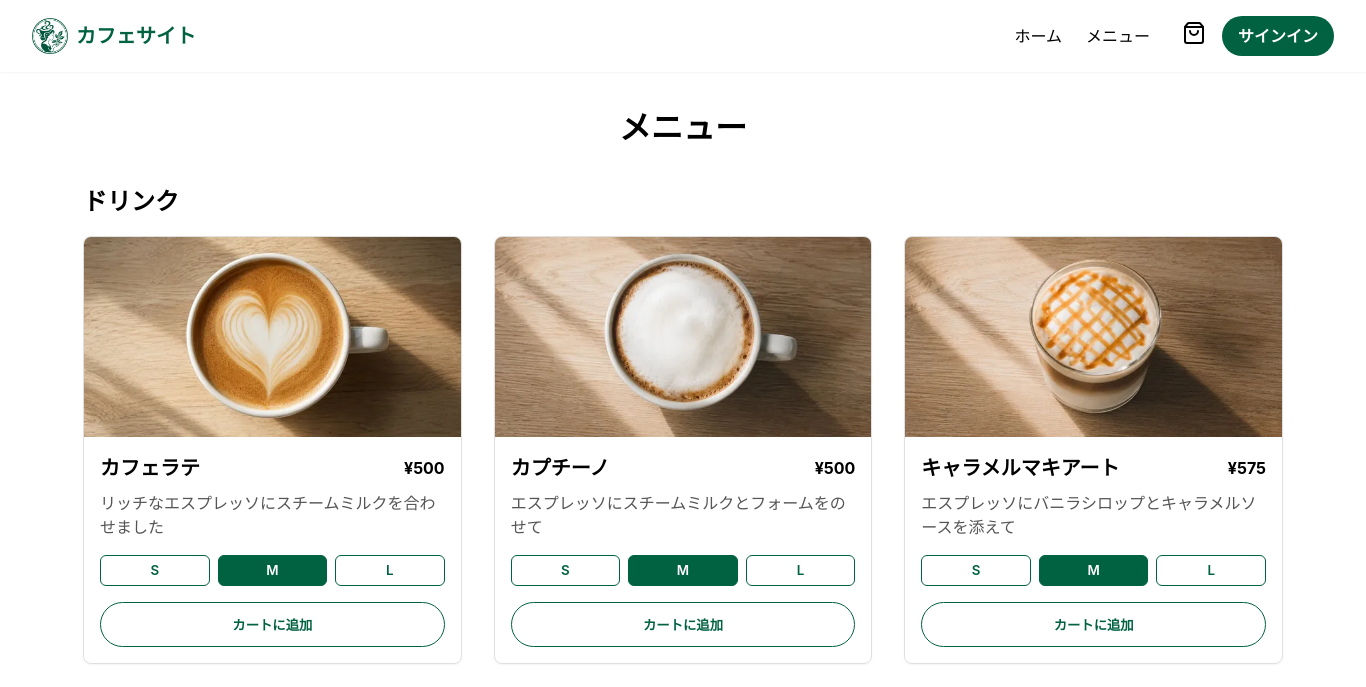
Test: 決済画面 › 小計・消費税・合計を計算して出す
Click the button "カートに追加" below "リッチなエスプレッソにスチームミルクを合わせました".
click(272, 624)  # box [100,602,445,647]
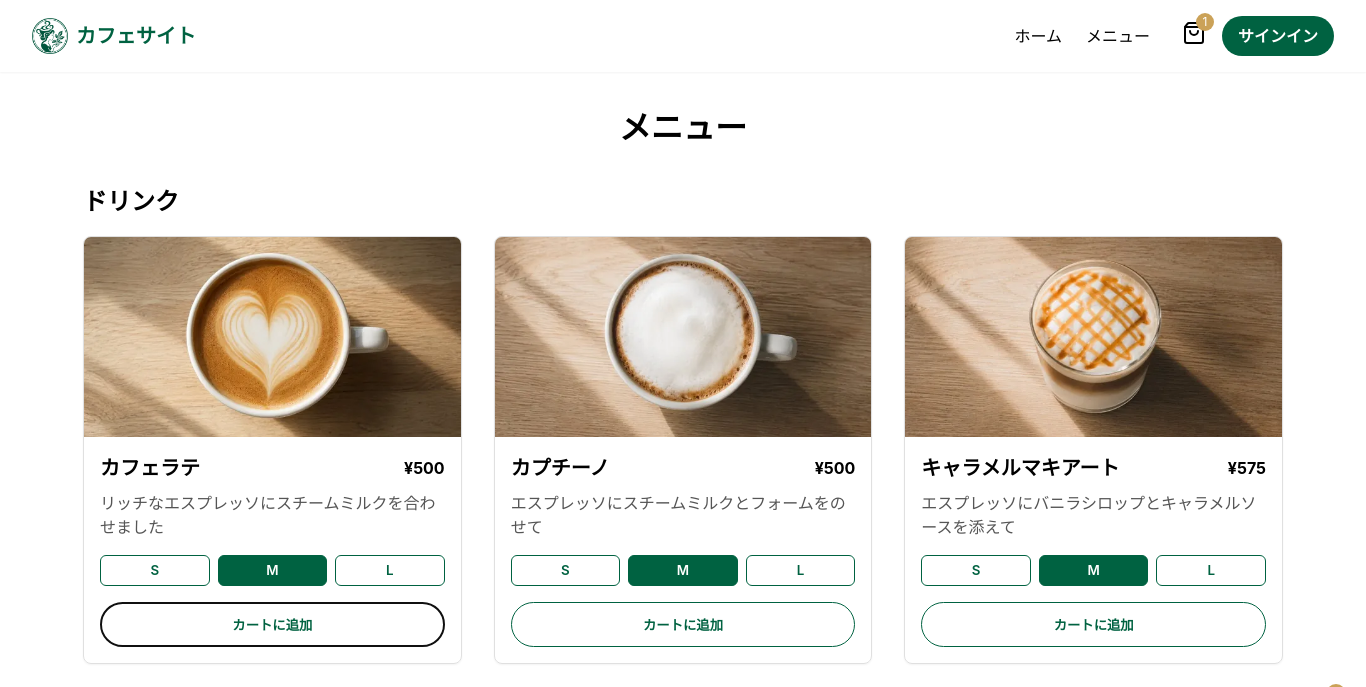
Click the button "カートに追加" below "リッチなエスプレッソにスチームミルクを合わせました".
click(272, 624)  # box [100,602,445,647]
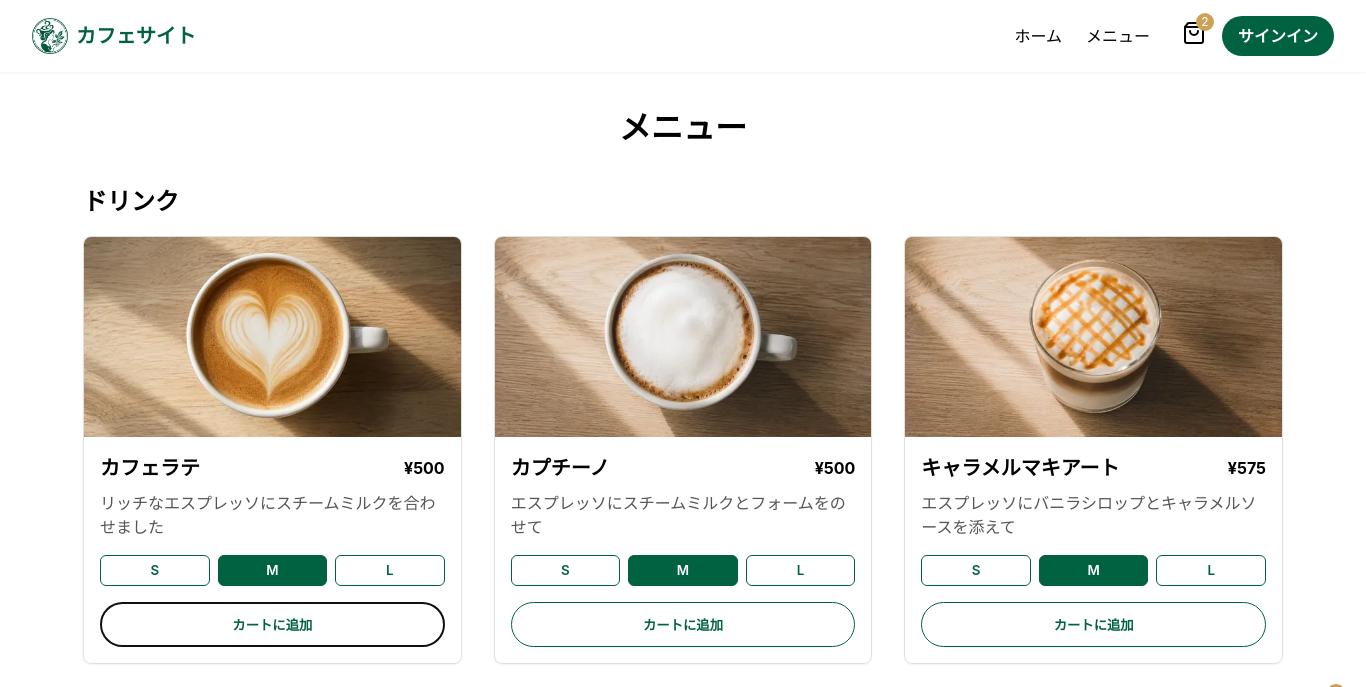
Click the link named "カート（".
click(1194, 36)  # box [1182,21,1206,51]
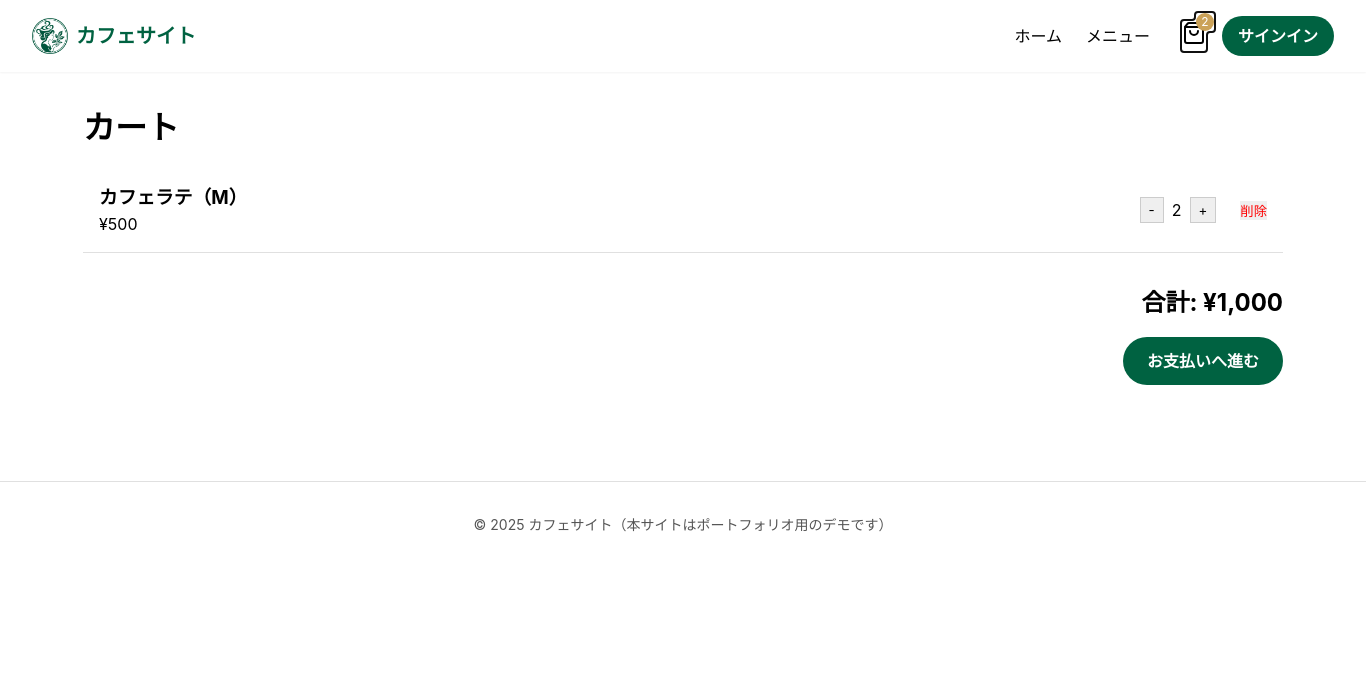
Click the link "お支払いへ進む".
click(1203, 361)  # box [1123,337,1283,385]
(page scrolled)
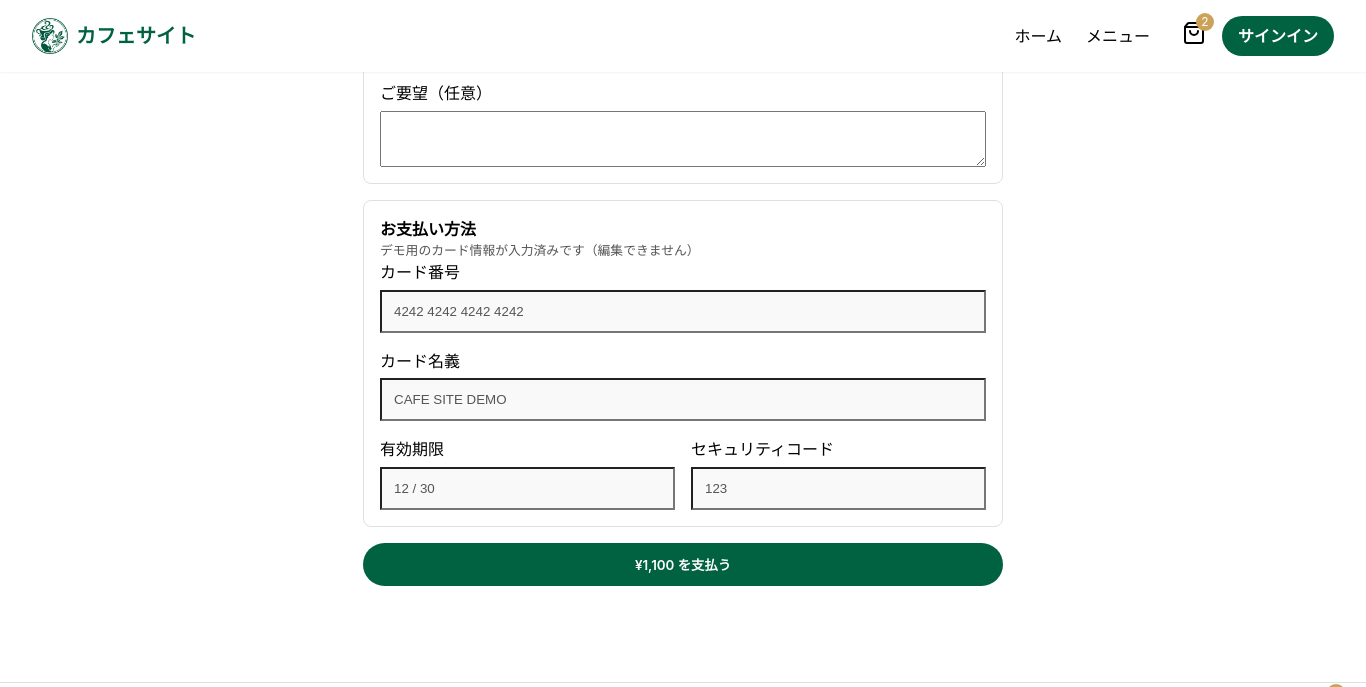
Now the button "¥1,100 を支払う" is shown, box [363,543,1003,586]
